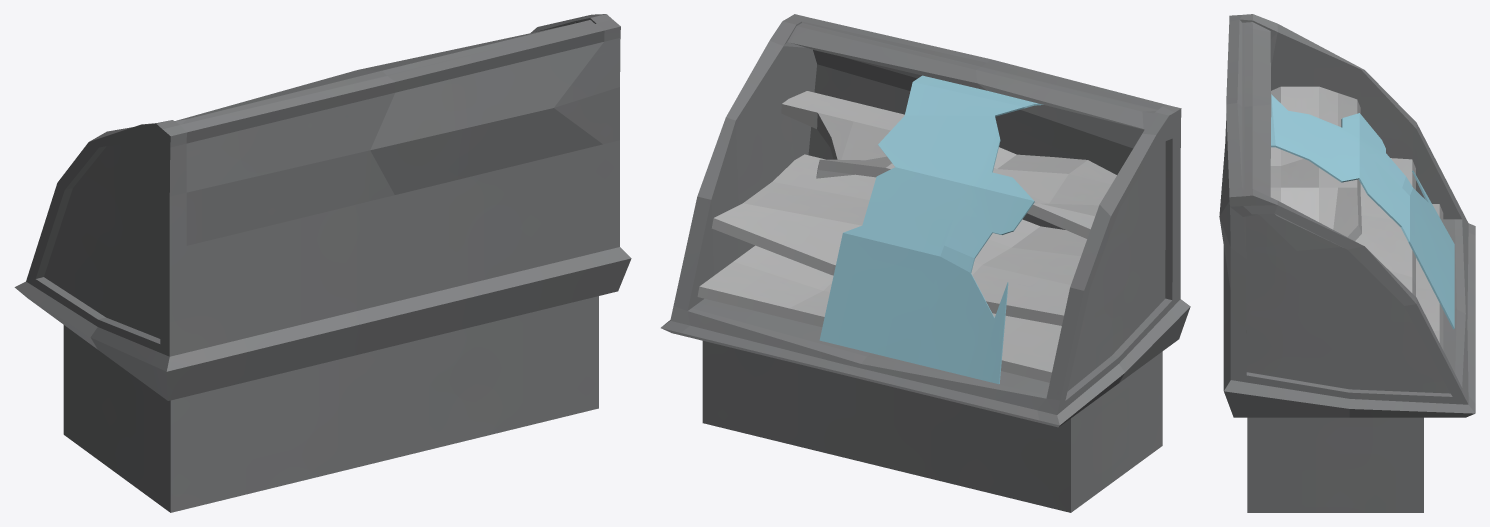
The model's file is freezer_1.glb.
The picture shows the model from 3 angles, left to right: view 1: azimuth 30°, elevation 25°; view 2: azimuth 150°, elevation 25°; view 3: azimuth 270°, elevation 25°; orthographic projection. The views are drawn at different scales.
Visible parts, largest first — view 1: freezer_1; view 2: freezer_1, freezer_glass_1; view 3: freezer_1, freezer_glass_1.
Part boxes in pixels (left/top/right/bottom): freezer_1: left=14, top=14, right=631, bottom=512; freezer_1: left=661, top=14, right=1190, bottom=512; freezer_glass_1: left=819, top=75, right=1043, bottom=384; freezer_1: left=1219, top=14, right=1475, bottom=512; freezer_glass_1: left=1271, top=94, right=1454, bottom=329.
Bounding box in the file's own units: 1.34 × 1.07 × 0.7732.
1 material, 1 textured.
